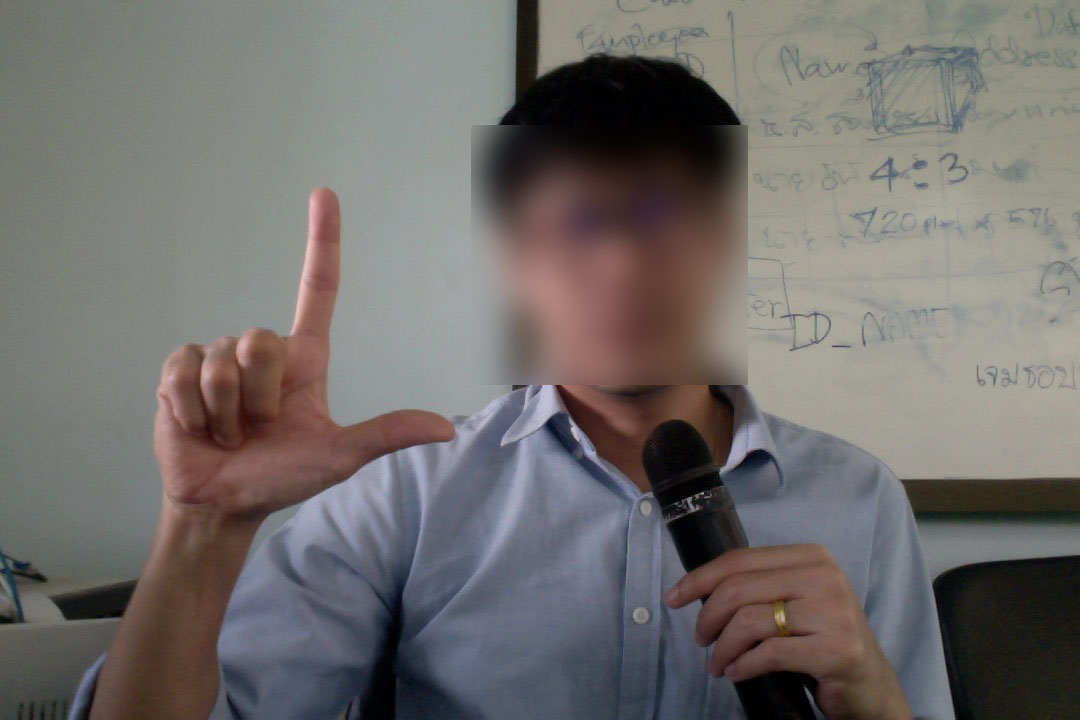lor: (144, 178, 466, 550)
